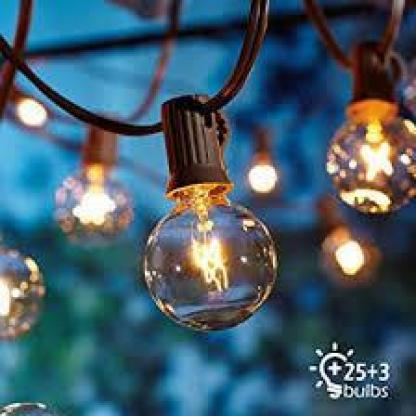other: (350, 124, 392, 206), (184, 231, 228, 284), (329, 231, 370, 277), (64, 190, 115, 222), (252, 164, 274, 194), (0, 276, 15, 320)
